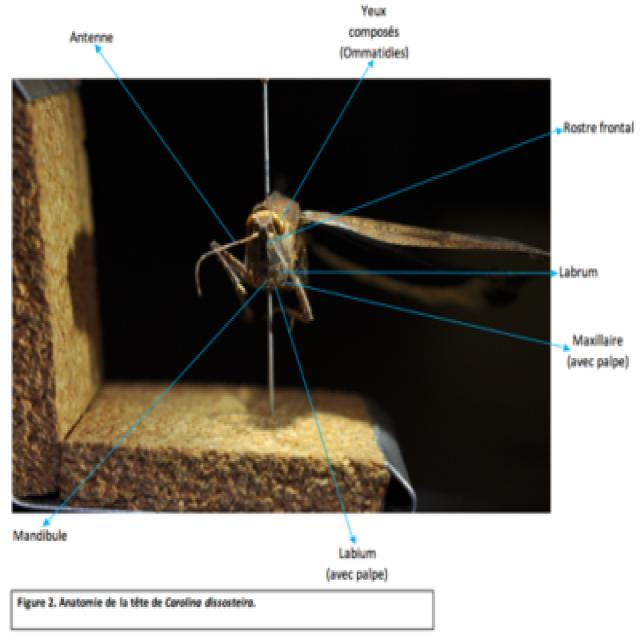antennae: (193, 227, 254, 290)
body: (240, 193, 308, 283)
insect: (195, 188, 551, 327)
legs: (208, 238, 251, 298), (278, 266, 317, 320)
mouthpart: (252, 261, 287, 285)
wings: (293, 209, 548, 262)
